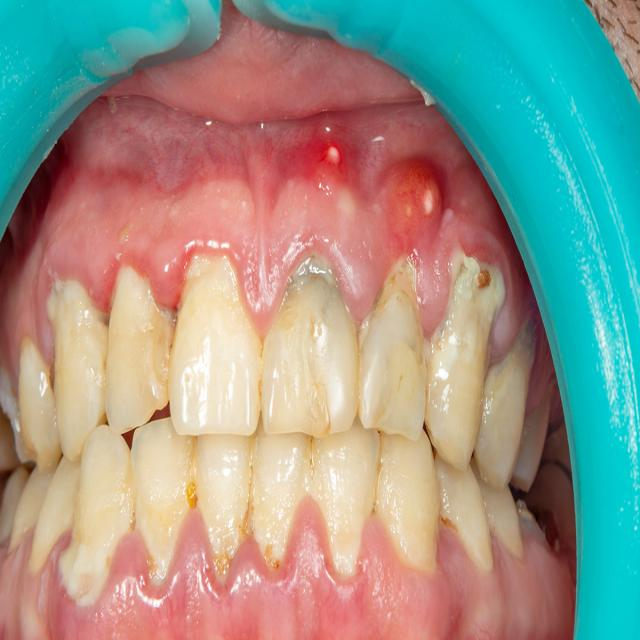abscess: (372, 159, 449, 260), (297, 116, 356, 200)
